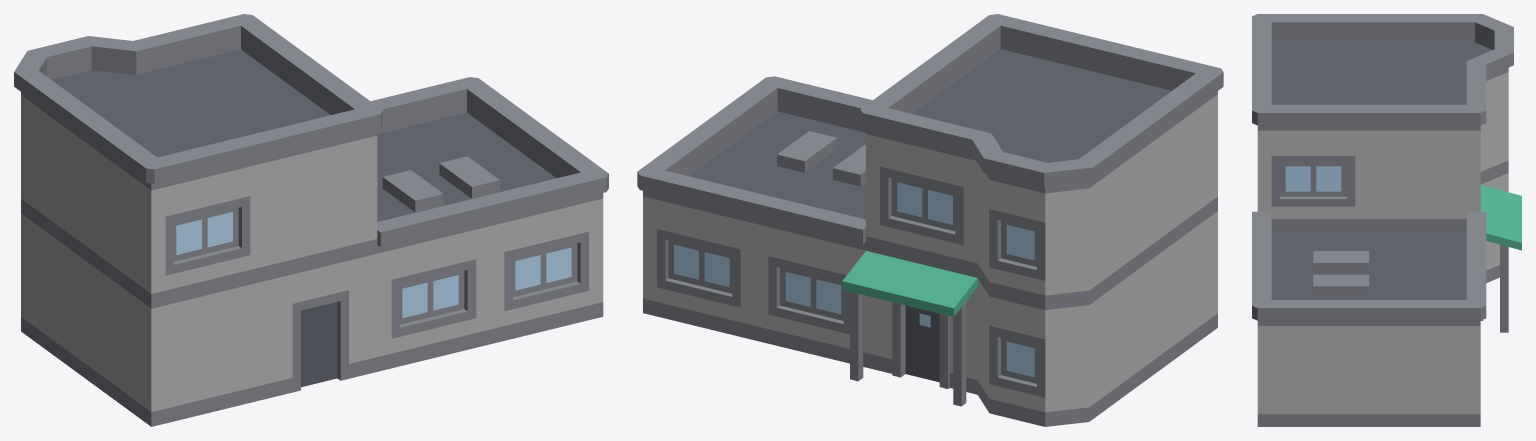
Rendered from small_buildingE.dae.
The picture shows the model from 3 angles, left to right: view 1: azimuth 30°, elevation 25°; view 2: azimuth 150°, elevation 25°; view 3: azimuth 270°, elevation 25°; orthographic projection. The views are drawn at different scales.
Visible parts, largest first — view 1: small_buildingE; view 2: small_buildingE; view 3: small_buildingE.
Part boxes in pixels (box(x1,y1,x2,y2)): small_buildingE: box(14, 14, 608, 426); small_buildingE: box(637, 14, 1223, 426); small_buildingE: box(1252, 14, 1521, 426).
Bounding box in the file's own units: 1.64 × 0.88 × 0.9679.
